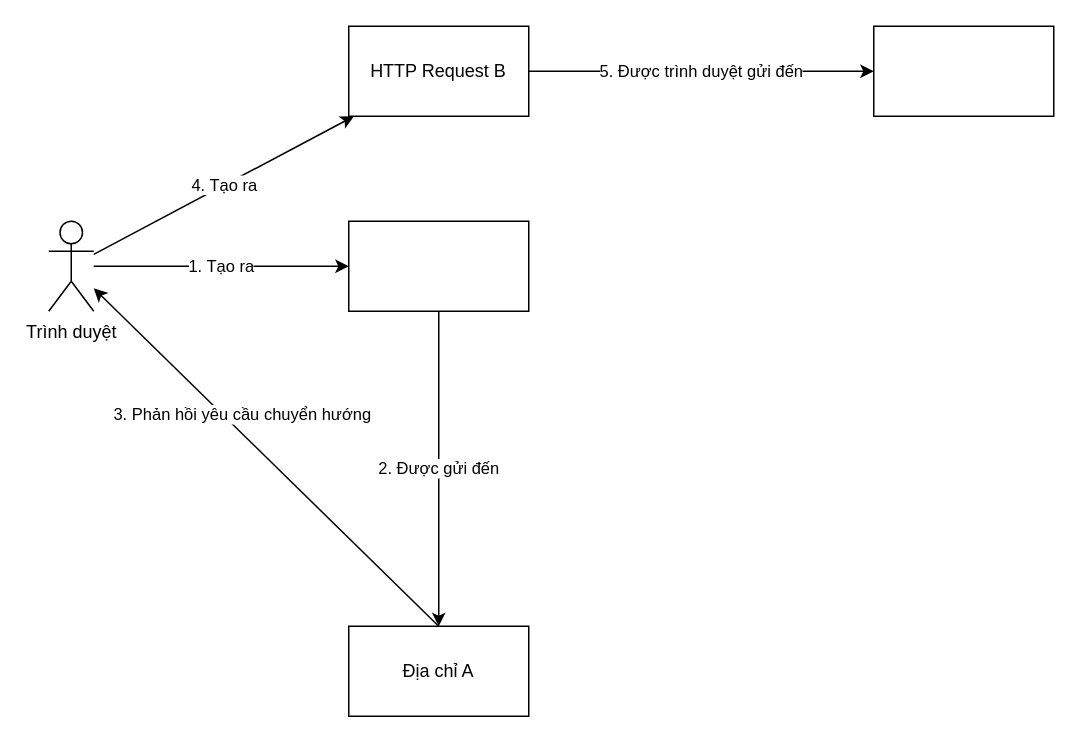
This 1080x743 diagram has some shape labels left out. Each missing label, with the centre of its shape:
"HTTP Request A" goes at [438,265].
"Địa chỉ B" goes at [963,70].
